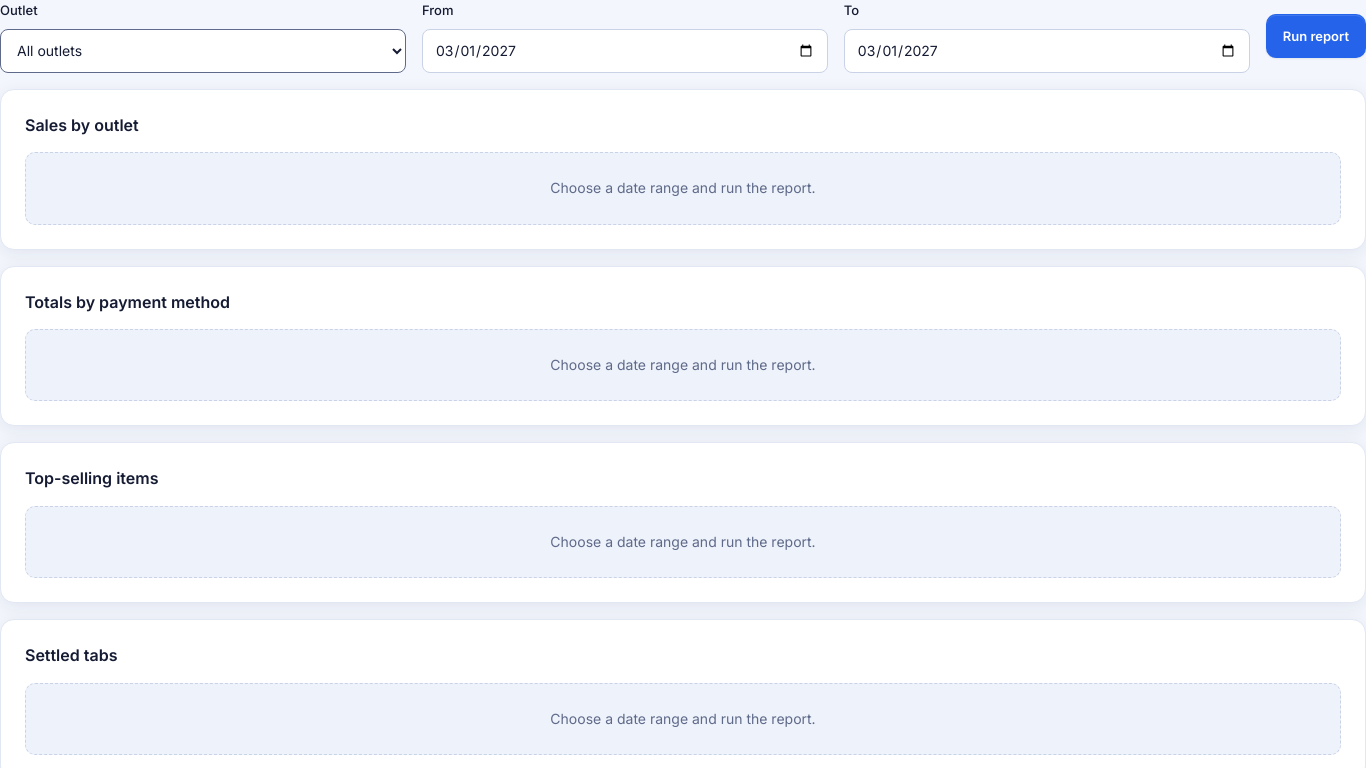
Test: <SalesTab> › runs the report for the chosen outlet and shows totals by tender, top sellers, and settled tabs
Select "Main Bar" in the dropdown labelled "Outlet" at (203, 51), box [0,29,406,73]
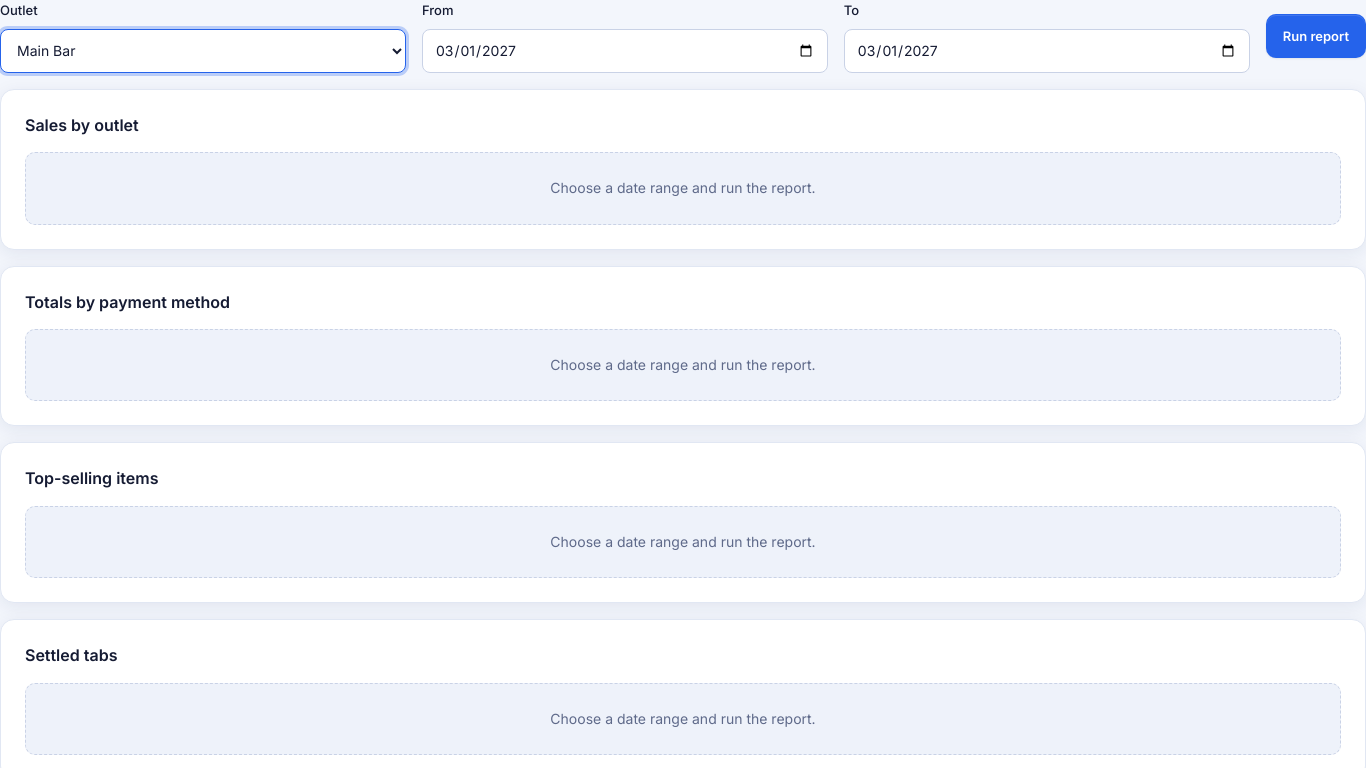
Click the button "Run report" at (1316, 36), box [1266,14,1365,58]
(page scrolled)
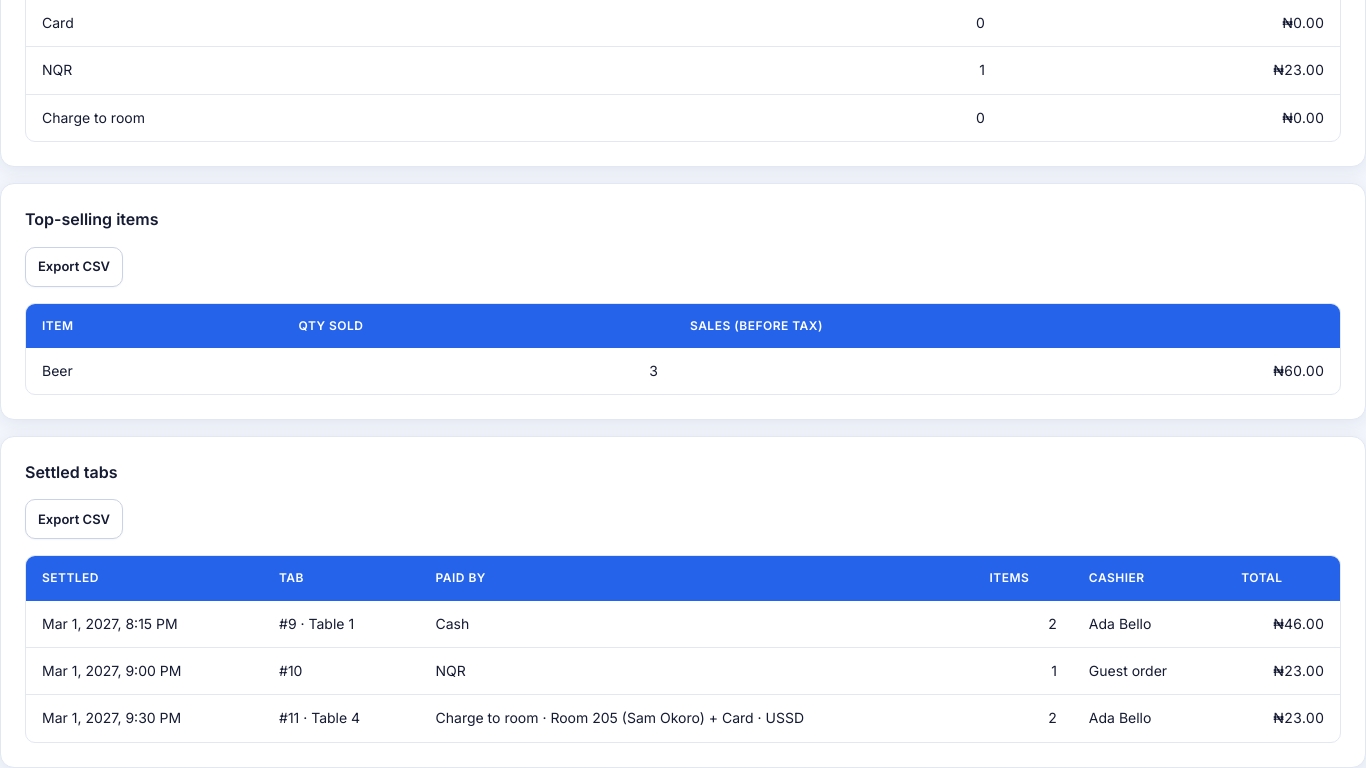
Expected: the text "NQR" shows "23.00", [1273,61,1324,78]
Expected: the text "NQR" shows "1", [979,61,985,78]
Expected: the text "Beer" shows "3", [649,362,658,379]
